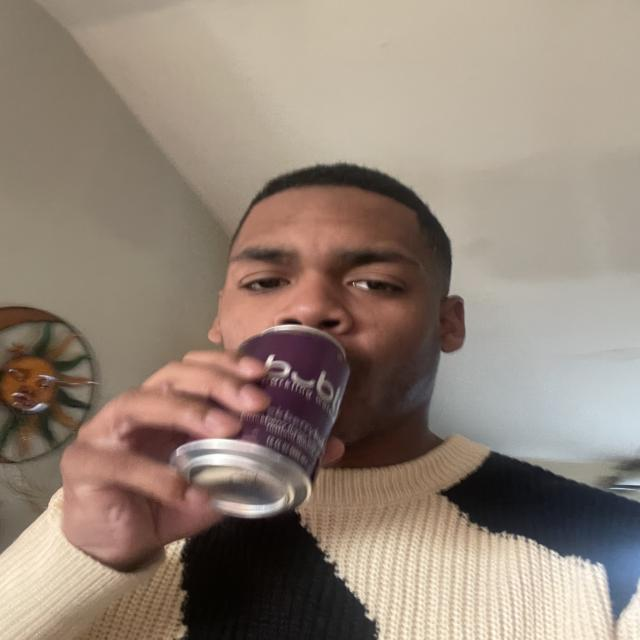Aluminum-Can: (231, 319, 362, 511)
